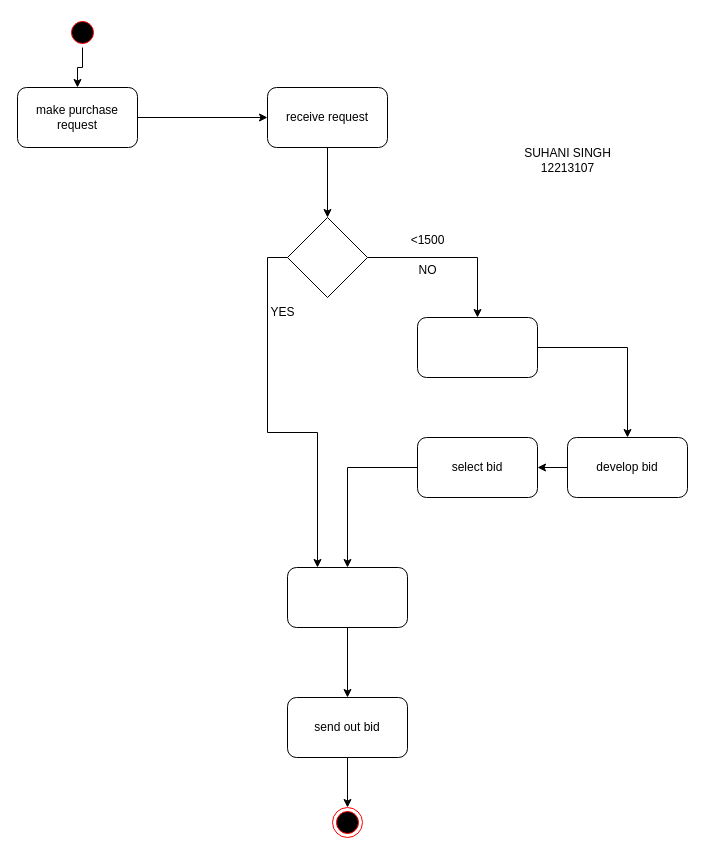
The diagram is 705 pixels wide and 855 high, and some of its shapes have lost their labels. The centre of each missing label's shape, as x and y in pixels:
request bid: point (477, 347)
write purchase order: point (347, 597)
